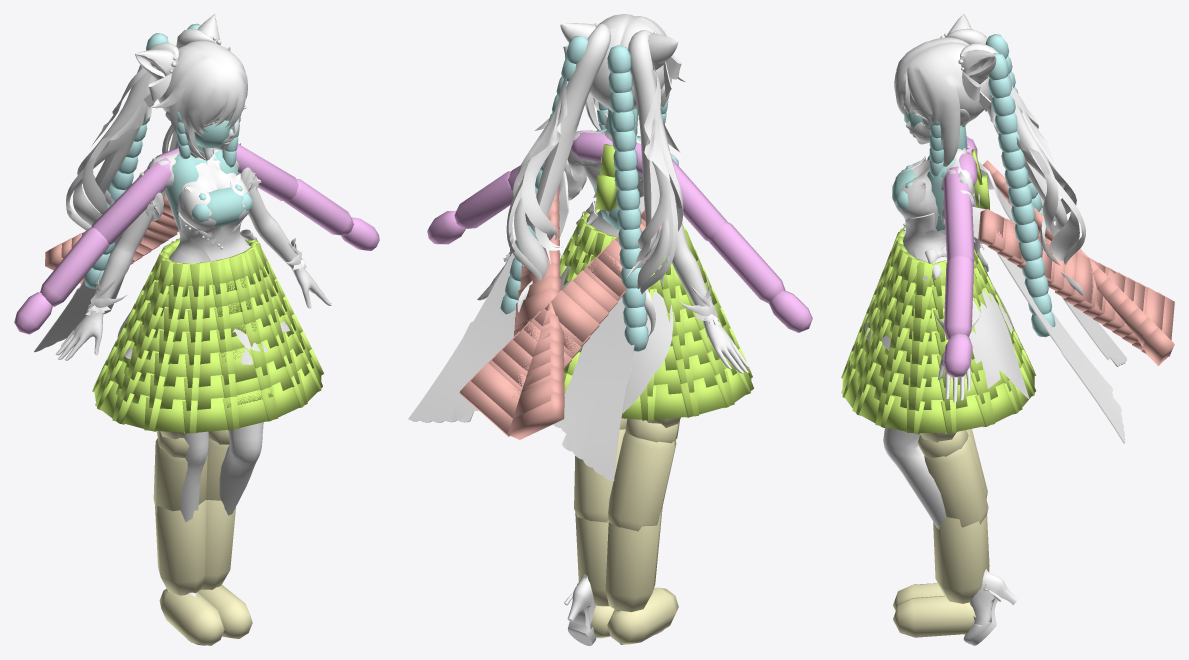
File: keqing.fbx
3 renders of one model, left to right at view 1: azimuth 30°, elevation 25°; view 2: azimuth 150°, elevation 25°; view 3: azimuth 270°, elevation 25°, orthographic. The views are drawn at different scales.
Visible parts, largest first — view 1: 刻晴_mesh, 00P_右脛.001, 00V_右腕.001, 00R_右足首.001, 00X_右ひじ.001, 00O_左脛.001, 00N_右脹脛.001, 00W_左ひじ.001, 00U_左腕.001, 00Q_左足首.001, 03Y_裙_6_0.001, 04D_裙_6_15.001 (+38 smaller); view 2: 刻晴_mesh, 00N_右脹脛.001, 00P_右脛.001, 00X_右ひじ.001, 00R_右足首.001, 00O_左脛.001, 00M_左脹脛.001, 00W_左ひじ.001, 00V_右腕.001, 04V_左袖_17_1.001, 048_裙_6_10.001, 060_右袖_16_1.001 (+21 smaller); view 3: 刻晴_mesh, 00O_左脛.001, 00M_左脹脛.001, 00Q_左足首.001, 00U_左腕.001, 00W_左ひじ.001, 043_裙_6_5.001, 00Y_左手首.001, 042_裙_6_4.001, 041_裙_6_3.001, 044_裙_6_6.001, 04N_左袖_9_1.001 (+20 smaller).
Boxes of the visible parts, x1=… form: 刻晴_mesh: x1=34, y1=14, x2=331, y2=645; 00P_右脛.001: x1=155, y1=500, x2=206, y2=595; 00V_右腕.001: x1=91, y1=157, x2=171, y2=244; 00R_右足首.001: x1=159, y1=588, x2=224, y2=645; 00X_右ひじ.001: x1=40, y1=227, x2=109, y2=306; 00O_左脛.001: x1=201, y1=500, x2=235, y2=589; 00N_右脹脛.001: x1=153, y1=438, x2=207, y2=512; 00W_左ひじ.001: x1=284, y1=178, x2=353, y2=235; 00U_左腕.001: x1=236, y1=144, x2=298, y2=201; 00Q_左足首.001: x1=198, y1=585, x2=252, y2=638; 03Y_裙_6_0.001: x1=223, y1=386, x2=278, y2=430; 04D_裙_6_15.001: x1=182, y1=396, x2=239, y2=433; 刻晴_mesh: x1=408, y1=14, x2=749, y2=645; 00N_右脹脛.001: x1=608, y1=432, x2=676, y2=531; 00P_右脛.001: x1=605, y1=507, x2=662, y2=612; 00X_右ひじ.001: x1=709, y1=222, x2=785, y2=303; 00R_右足首.001: x1=607, y1=587, x2=678, y2=644; 00O_左脛.001: x1=575, y1=512, x2=609, y2=606; 00M_左脹脛.001: x1=574, y1=429, x2=625, y2=522; 00W_左ひじ.001: x1=454, y1=171, x2=513, y2=228; 00V_右腕.001: x1=672, y1=159, x2=727, y2=241; 04V_左袖_17_1.001: x1=507, y1=391, x2=564, y2=439; 048_裙_6_10.001: x1=640, y1=381, x2=698, y2=420; 060_右袖_16_1.001: x1=471, y1=362, x2=520, y2=417; 刻晴_mesh: x1=862, y1=14, x2=1126, y2=645; 00O_左脛.001: x1=933, y1=515, x2=989, y2=603; 00M_左脹脛.001: x1=924, y1=439, x2=988, y2=527; 00Q_左足首.001: x1=893, y1=596, x2=976, y2=637; 00U_左腕.001: x1=943, y1=166, x2=974, y2=262; 00W_左ひじ.001: x1=943, y1=255, x2=973, y2=339; 043_裙_6_5.001: x1=941, y1=392, x2=994, y2=433; 00Y_左手首.001: x1=943, y1=333, x2=972, y2=377; 042_裙_6_4.001: x1=907, y1=400, x2=956, y2=432; 041_裙_6_3.001: x1=875, y1=392, x2=924, y2=434; 044_裙_6_6.001: x1=975, y1=380, x2=1022, y2=427; 04N_左袖_9_1.001: x1=1063, y1=252, x2=1094, y2=305.
Size of the model in its own units: 102 by 159 by 80.76.
